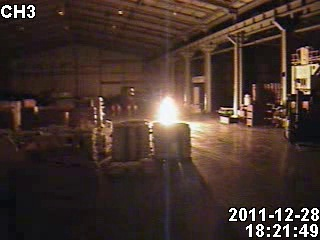fire: (155, 94, 181, 127)
